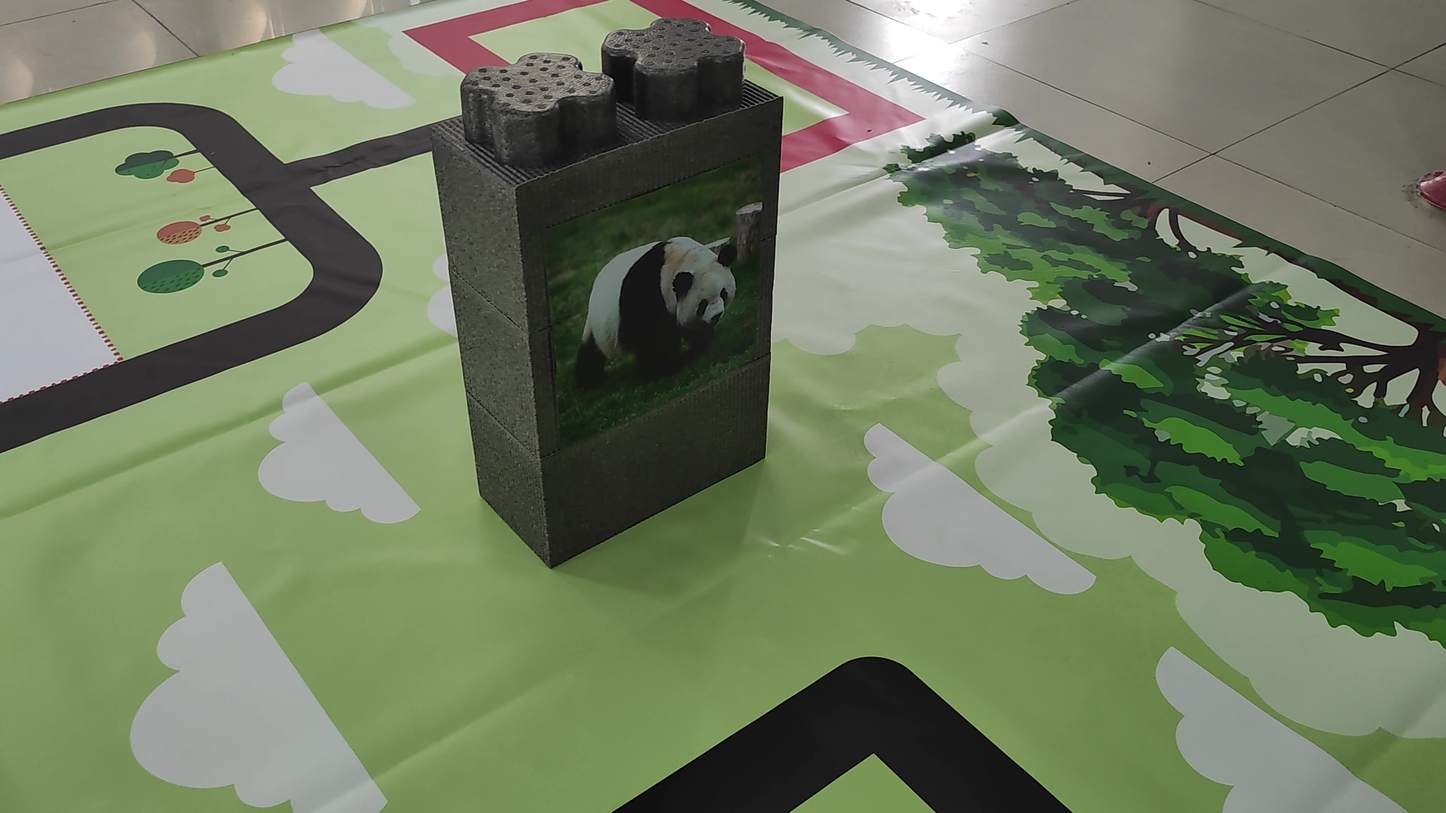panda: (543, 209, 757, 398)
